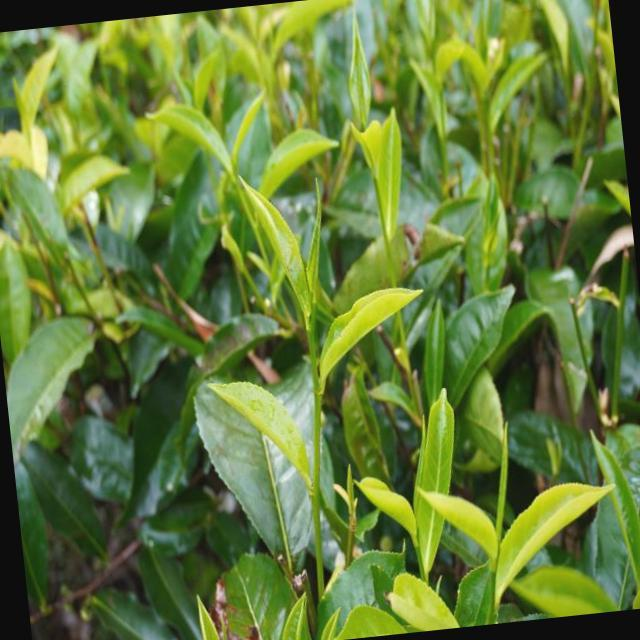Stem: (308, 338, 316, 362)
